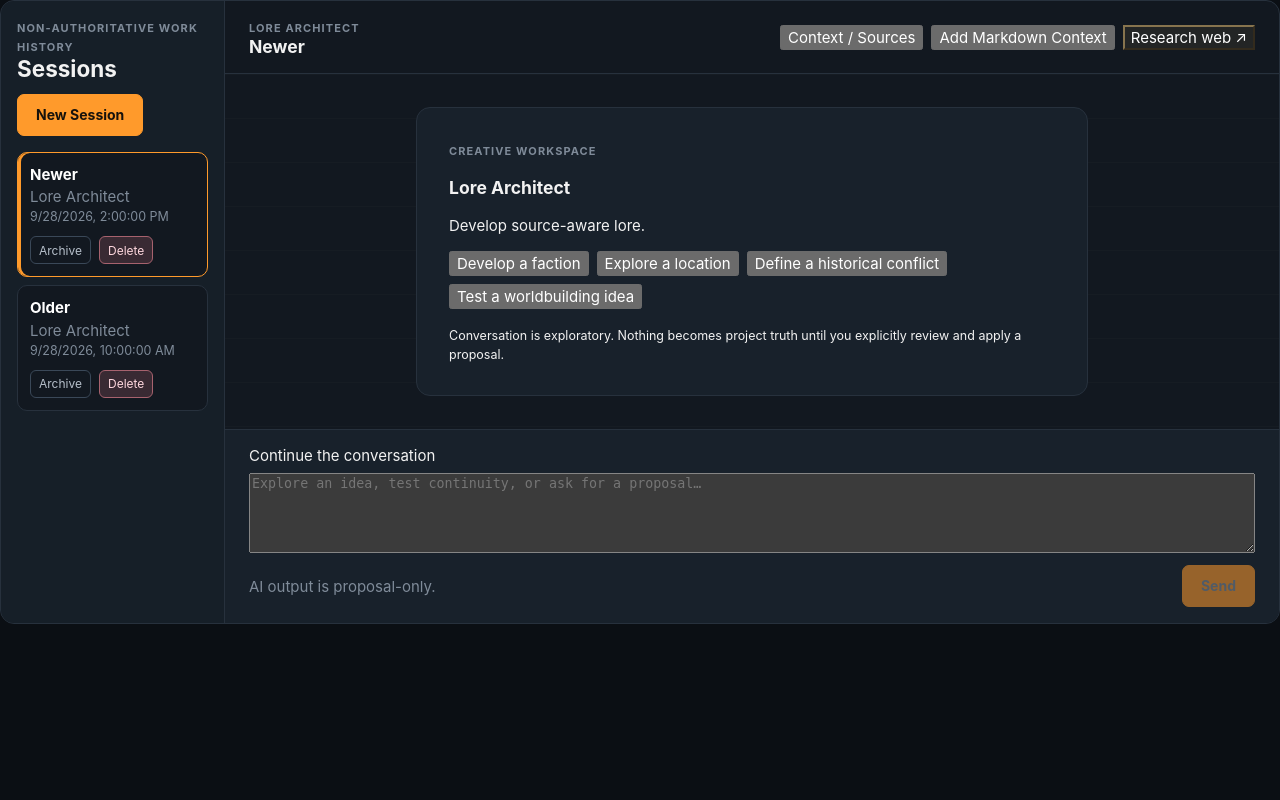
Test: Writers' Room › selects the most recently updated active session and falls back from a stale selection
This screenshot has width=1280, height=800.
Expected: the heading "Newer" is shown, left=249, top=36, right=305, bottom=57
Click the button "Older Lore Architect 9/28/2026, 10:00:00 AM": (112, 328) left=18, top=286, right=207, bottom=370
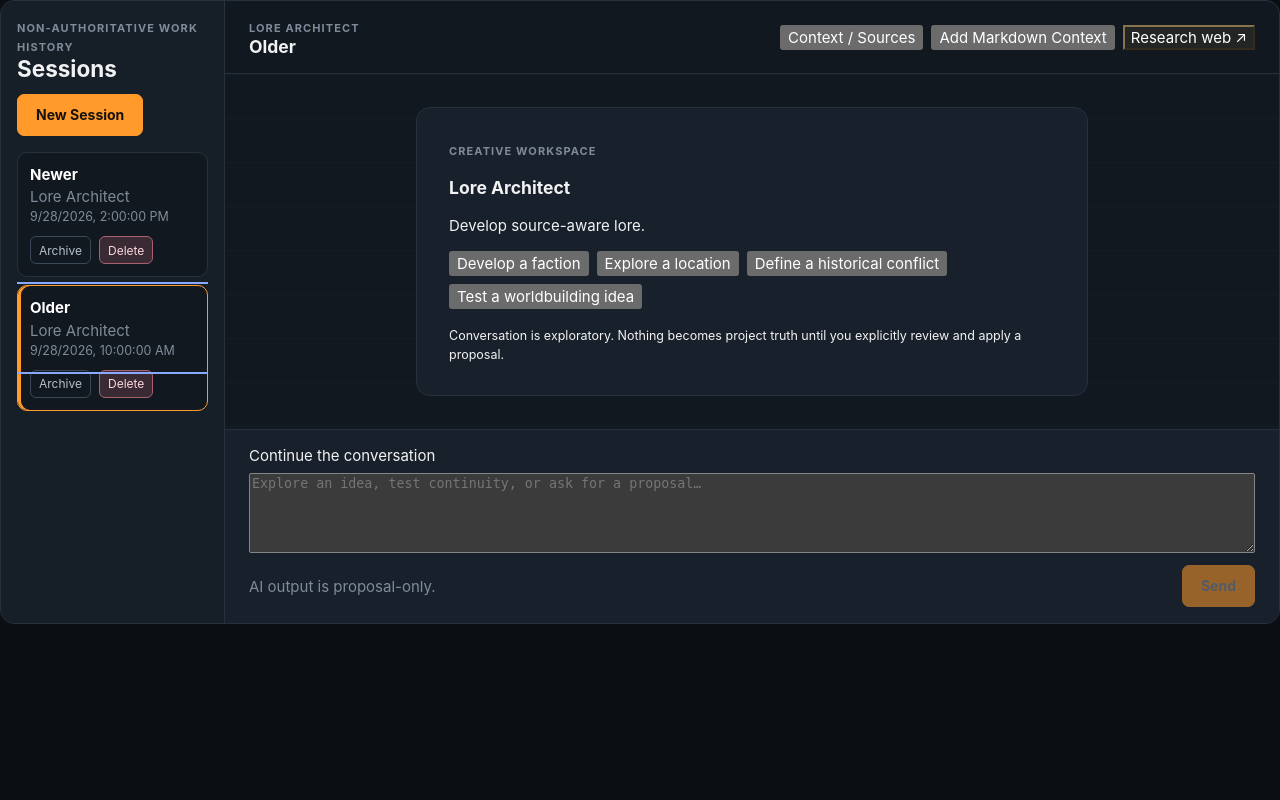
Now the heading "Older" is shown, box left=249, top=36, right=296, bottom=57
Click the button with aria-label "Archive Older": (60, 384) left=30, top=370, right=91, bottom=398
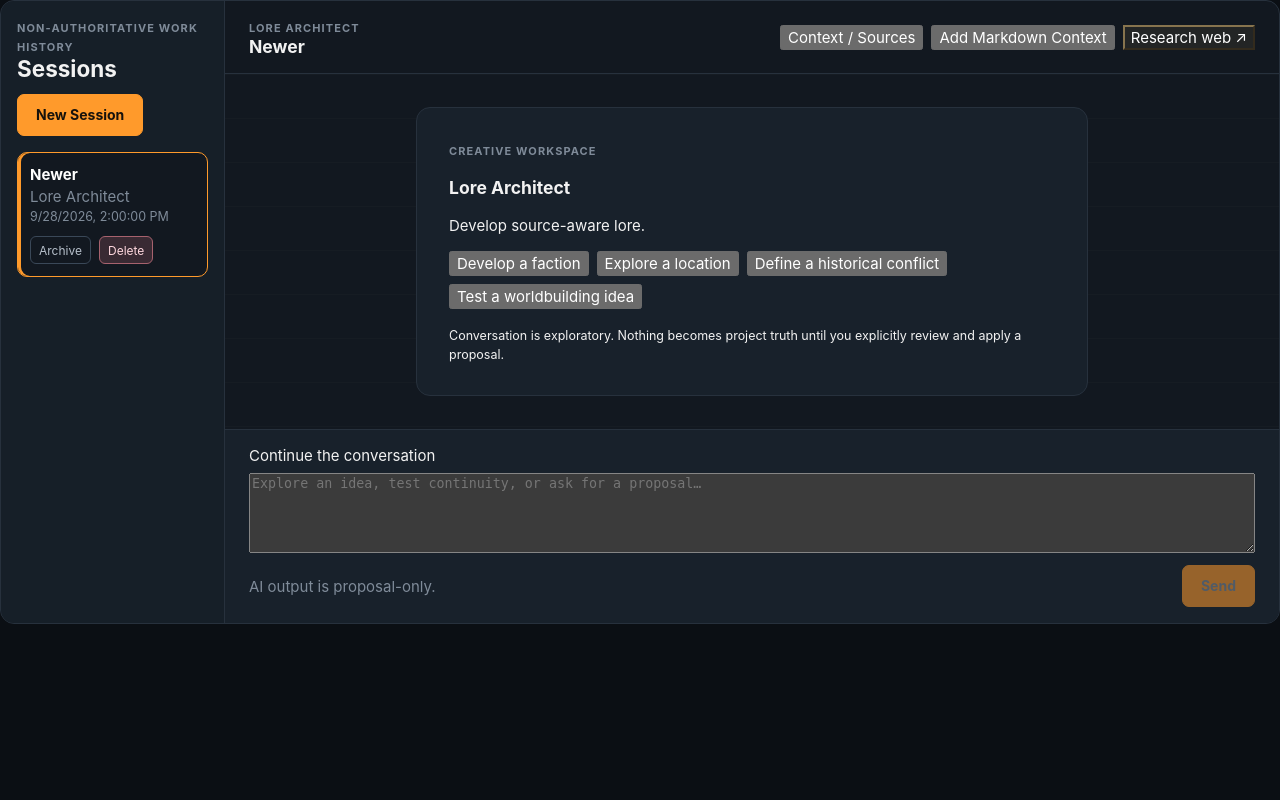
Now the heading "Newer" is shown, box left=249, top=36, right=305, bottom=57
